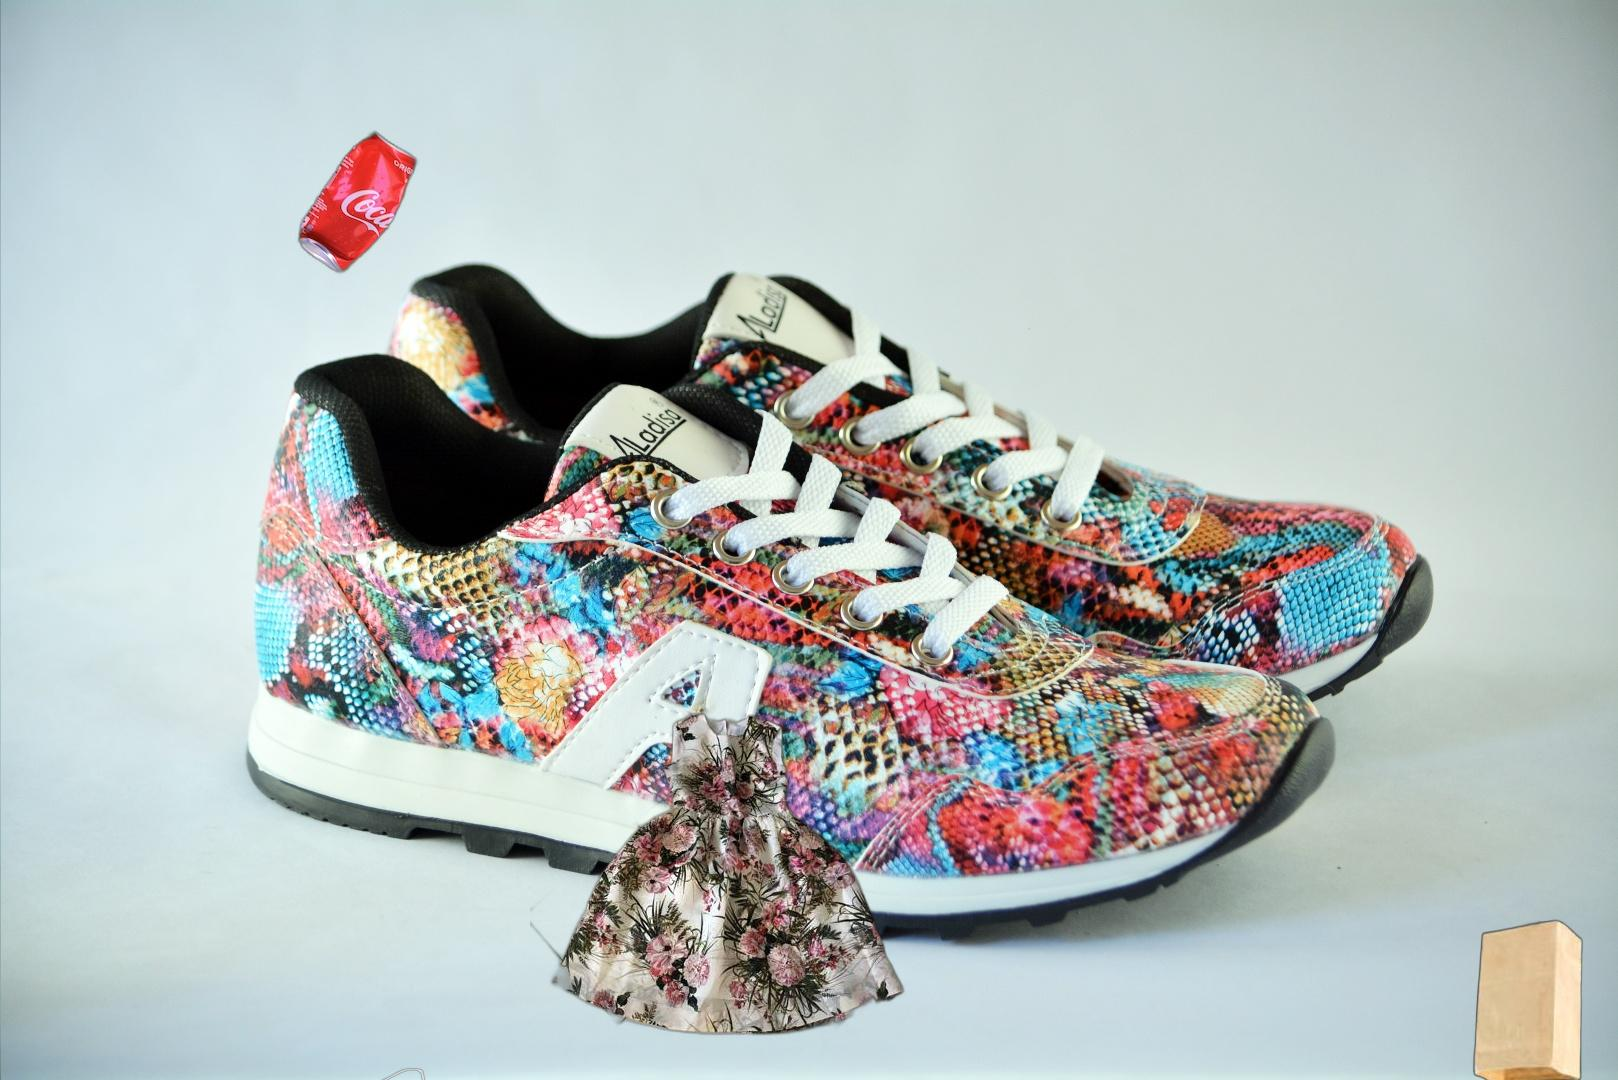clothes: (530, 708, 906, 1040)
metal-cans: (295, 127, 420, 278)
paper-bag: (1470, 917, 1584, 1080)
trash: (352, 1066, 498, 1080)
